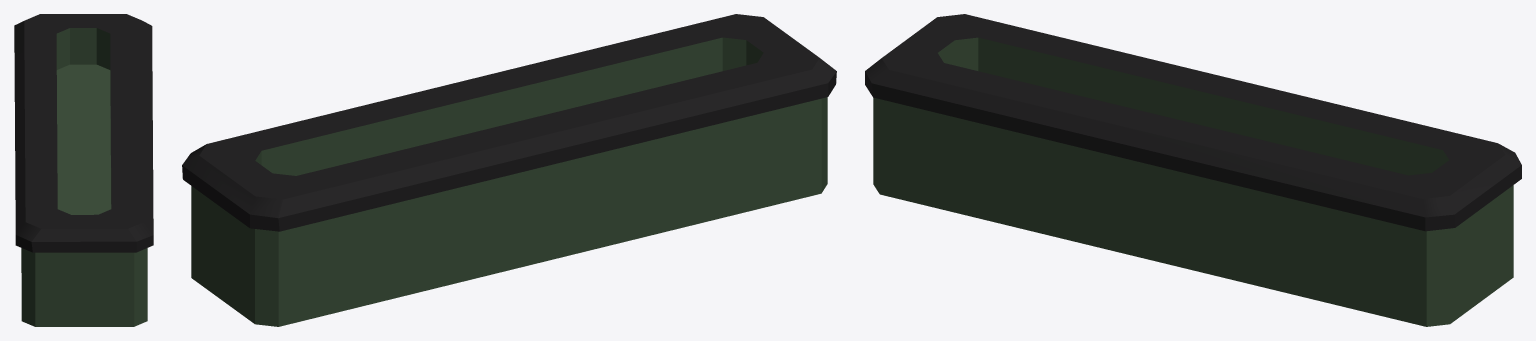
File: Printer_001.fbx
3 renders of one model, left to right at view 1: azimuth 30°, elevation 25°; view 2: azimuth 150°, elevation 25°; view 3: azimuth 270°, elevation 25°, orthographic. The views are drawn at different scales.
Visible parts, largest first — view 1: Printer_001; view 2: Printer_001; view 3: Printer_001.
Boxes of the visible parts, left/top/right/bottom form: Printer_001: left=14, top=14, right=153, bottom=326; Printer_001: left=182, top=14, right=836, bottom=326; Printer_001: left=865, top=14, right=1521, bottom=326.
Bounding box in the file's own units: 60.59 × 17.68 × 84.52.
1 material, 1 textured.
